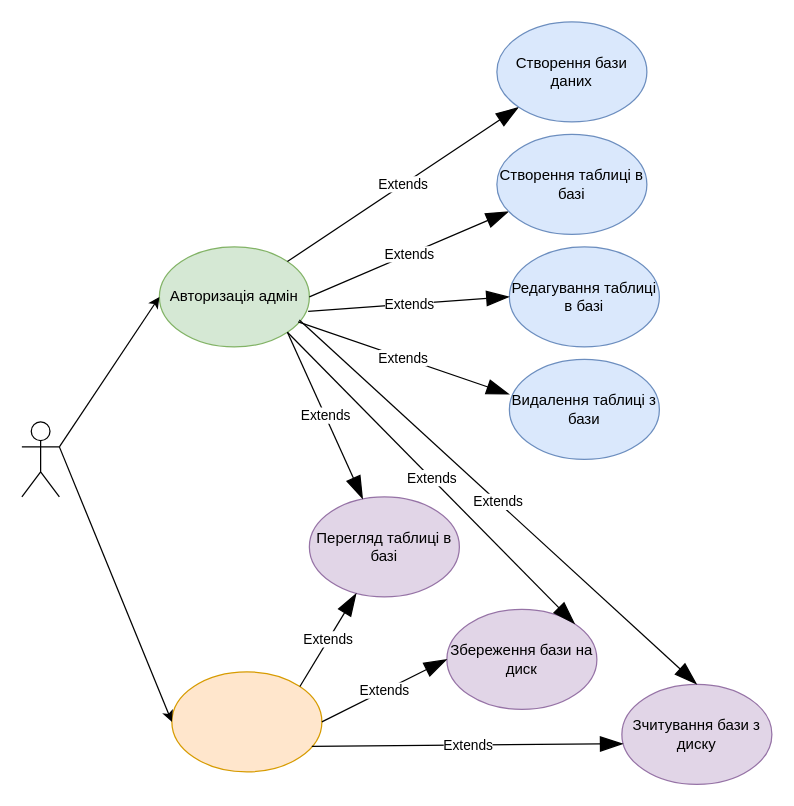
The diagram is 794 pixels wide and 806 high, and some of its shapes have lost their labels. Each missing label, with the box of its shape:
Actor: (21, 421, 59, 497)
Авторизація клієнт: (171, 671, 322, 772)
